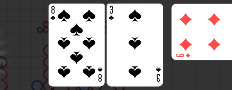3C: (108, 5, 115, 22)
6D: (175, 53, 192, 59)
8C: (50, 5, 57, 22)
